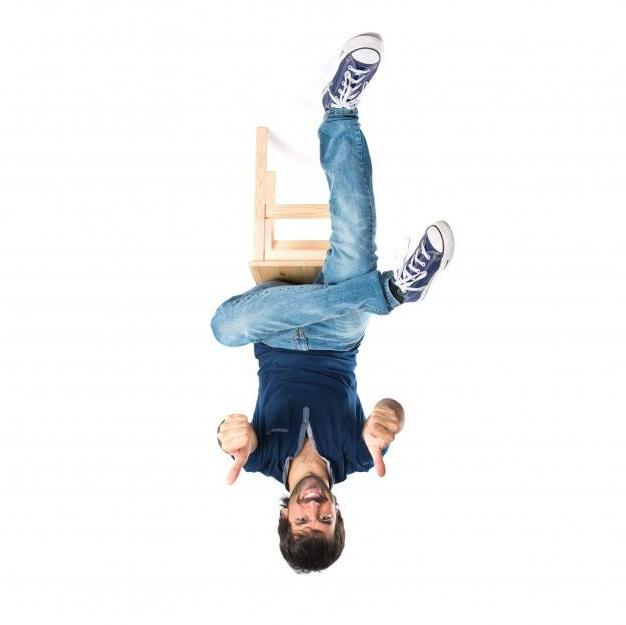thumbsdown: (367, 405, 400, 478), (217, 414, 250, 485)
